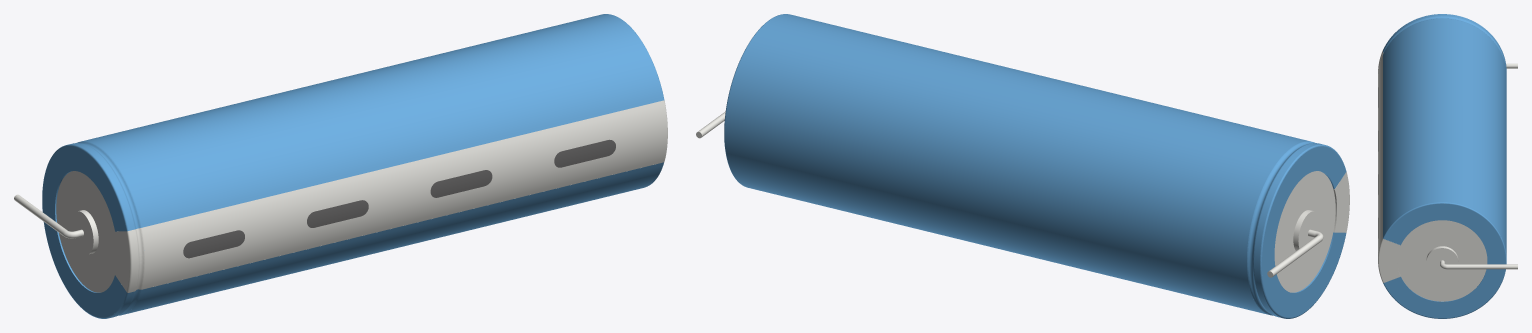
File: CP_Axial_L80.0mm_D23.0mm_P85.00mm_Horizontal.glb
3 views of the same model, side by side, from view 1: azimuth 30°, elevation 25°; view 2: azimuth 150°, elevation 25°; view 3: azimuth 270°, elevation 25° (orthographic). The views are drawn at different scales.
Parts seen in each view (by area): view 1: Shape_IndexedFaceSet.009, Shape_IndexedFaceSet.069, Shape_IndexedFaceSet.006, Shape_IndexedFaceSet.084, Shape_IndexedFaceSet.018, Shape_IndexedFaceSet.038, Shape_IndexedFaceSet.028, Shape_IndexedFaceSet.048, Shape_IndexedFaceSet, Shape_IndexedFaceSet.061, Shape_IndexedFaceSet.082, Shape_IndexedFaceSet.005 (+2 smaller); view 2: Shape_IndexedFaceSet.009, Shape_IndexedFaceSet.006, Shape_IndexedFaceSet.084, Shape_IndexedFaceSet, Shape_IndexedFaceSet.005, Shape_IndexedFaceSet.061, Shape_IndexedFaceSet.003, Shape_IndexedFaceSet.082, Shape_IndexedFaceSet.071, Shape_IndexedFaceSet.007; view 3: Shape_IndexedFaceSet.009, Shape_IndexedFaceSet.012, Shape_IndexedFaceSet.079, Shape_IndexedFaceSet.069, Shape_IndexedFaceSet.066, Shape_IndexedFaceSet.077, Shape_IndexedFaceSet.011, Shape_IndexedFaceSet.075, Shape_IndexedFaceSet, Shape_IndexedFaceSet.005, Shape_IndexedFaceSet.002.
Part boxes in pixels (x1=…): Shape_IndexedFaceSet.009: x1=81, y1=14, x2=663, y2=314; Shape_IndexedFaceSet.069: x1=142, y1=100, x2=666, y2=289; Shape_IndexedFaceSet.006: x1=42, y1=146, x2=126, y2=317; Shape_IndexedFaceSet.084: x1=56, y1=171, x2=117, y2=292; Shape_IndexedFaceSet.018: x1=430, y1=170, x2=492, y2=197; Shape_IndexedFaceSet.038: x1=183, y1=230, x2=244, y2=258; Shape_IndexedFaceSet.028: x1=307, y1=200, x2=368, y2=227; Shape_IndexedFaceSet.048: x1=554, y1=140, x2=615, y2=167; Shape_IndexedFaceSet: x1=69, y1=143, x2=134, y2=317; Shape_IndexedFaceSet.061: x1=115, y1=231, x2=129, y2=291; Shape_IndexedFaceSet.082: x1=71, y1=211, x2=93, y2=254; Shape_IndexedFaceSet.005: x1=78, y1=142, x2=139, y2=314; Shape_IndexedFaceSet.009: x1=725, y1=14, x2=1310, y2=314; Shape_IndexedFaceSet.006: x1=1262, y1=146, x2=1346, y2=317; Shape_IndexedFaceSet.084: x1=1274, y1=171, x2=1335, y2=292; Shape_IndexedFaceSet: x1=1254, y1=143, x2=1322, y2=317; Shape_IndexedFaceSet.005: x1=1248, y1=142, x2=1313, y2=314; Shape_IndexedFaceSet.061: x1=1334, y1=172, x2=1349, y2=232; Shape_IndexedFaceSet.003: x1=1260, y1=144, x2=1346, y2=318; Shape_IndexedFaceSet.082: x1=1298, y1=211, x2=1320, y2=254; Shape_IndexedFaceSet.071: x1=1269, y1=235, x2=1321, y2=276; Shape_IndexedFaceSet.007: x1=1247, y1=141, x2=1314, y2=315; Shape_IndexedFaceSet.009: x1=1383, y1=18, x2=1506, y2=254; Shape_IndexedFaceSet.012: x1=1384, y1=203, x2=1505, y2=318; Shape_IndexedFaceSet.079: x1=1397, y1=220, x2=1487, y2=301; Shape_IndexedFaceSet.069: x1=1378, y1=55, x2=1382, y2=256; Shape_IndexedFaceSet.066: x1=1379, y1=239, x2=1400, y2=282; Shape_IndexedFaceSet.077: x1=1426, y1=248, x2=1458, y2=277; Shape_IndexedFaceSet.011: x1=1383, y1=202, x2=1506, y2=318; Shape_IndexedFaceSet.075: x1=1447, y1=264, x2=1517, y2=269; Shape_IndexedFaceSet: x1=1383, y1=14, x2=1506, y2=68; Shape_IndexedFaceSet.005: x1=1383, y1=17, x2=1504, y2=60; Shape_IndexedFaceSet.002: x1=1383, y1=16, x2=1506, y2=71.
Size of the model in its own units: 33.82 by 9.05 by 9.85.
